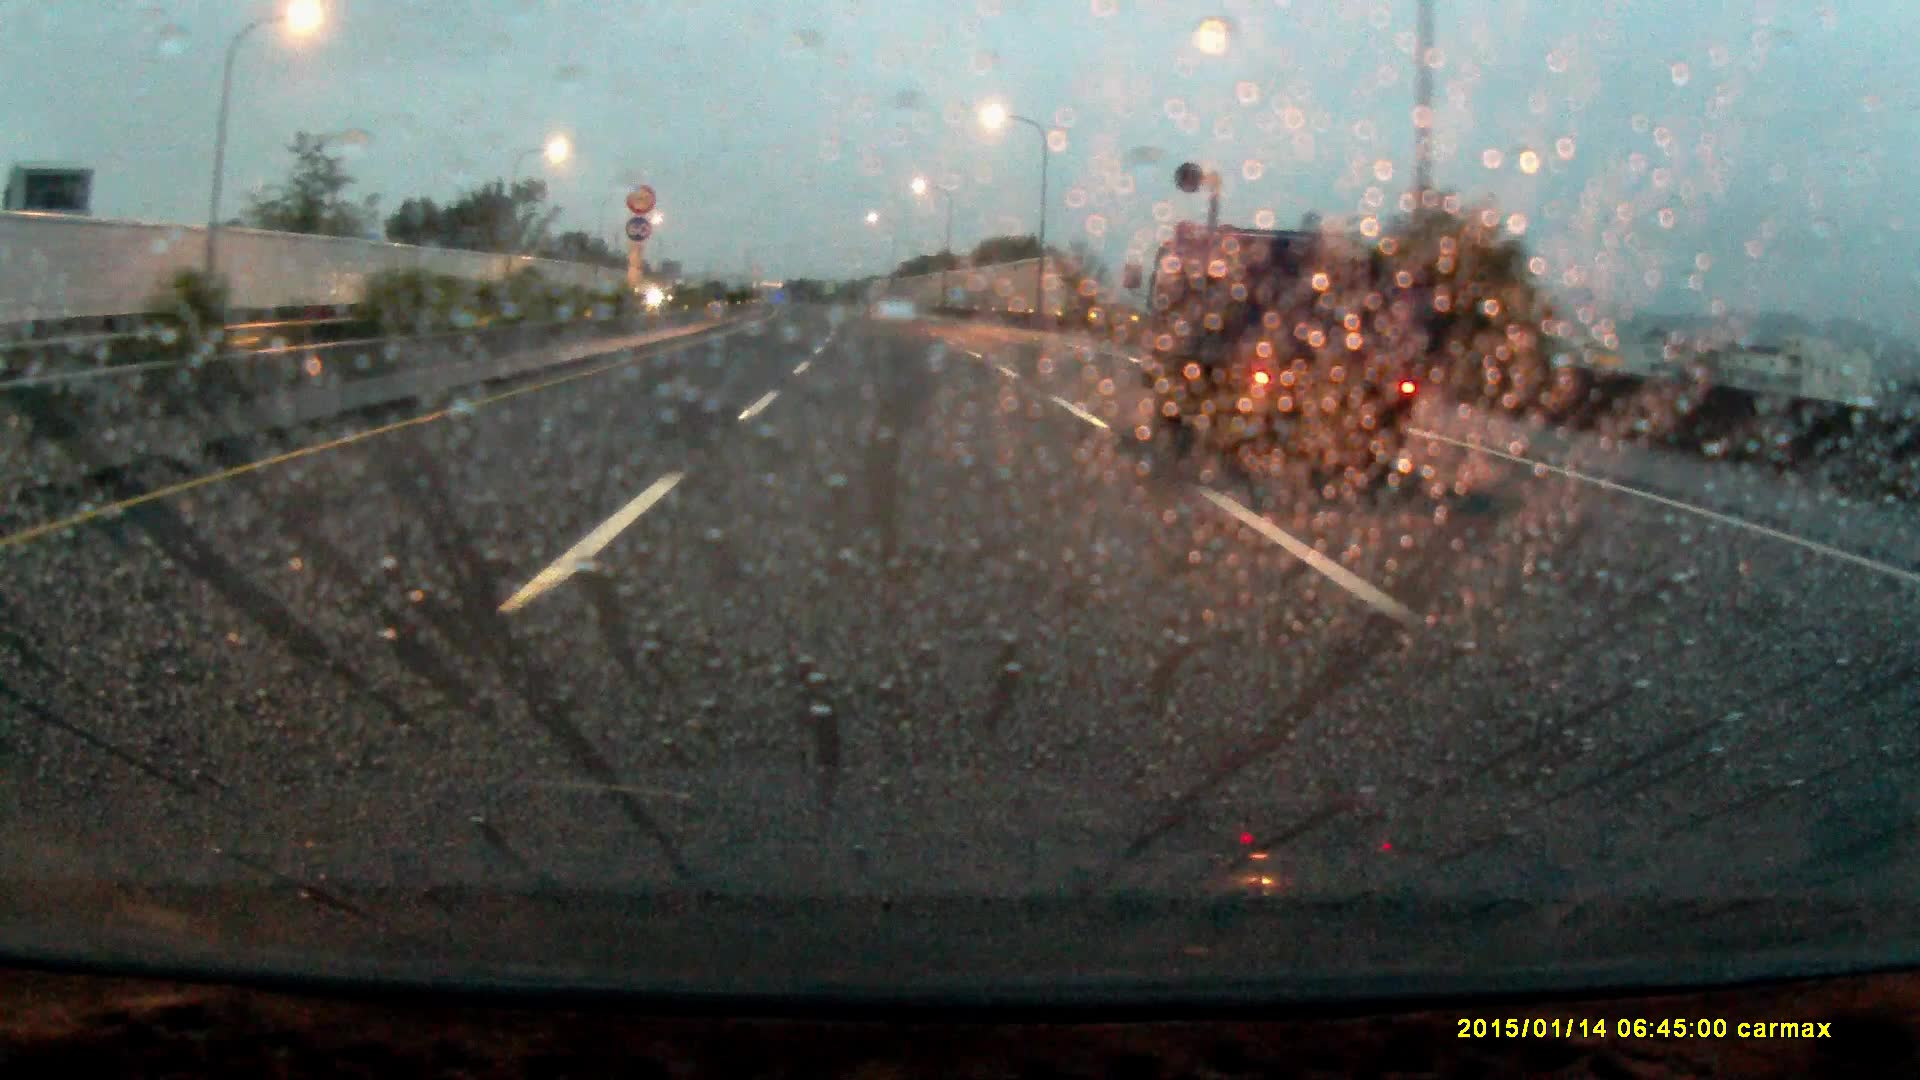vehicle: (1174, 211, 1452, 498)
